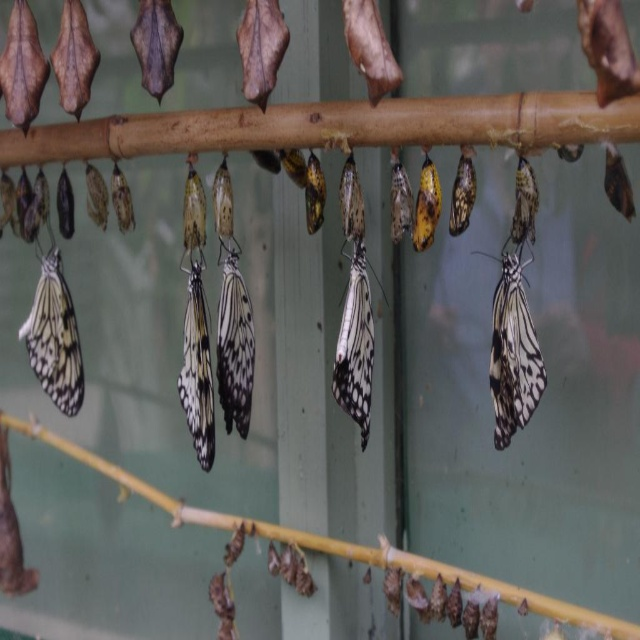Butterfly: (472, 227, 548, 447), (16, 209, 75, 418), (171, 231, 208, 469), (334, 237, 366, 450), (217, 221, 246, 439)
